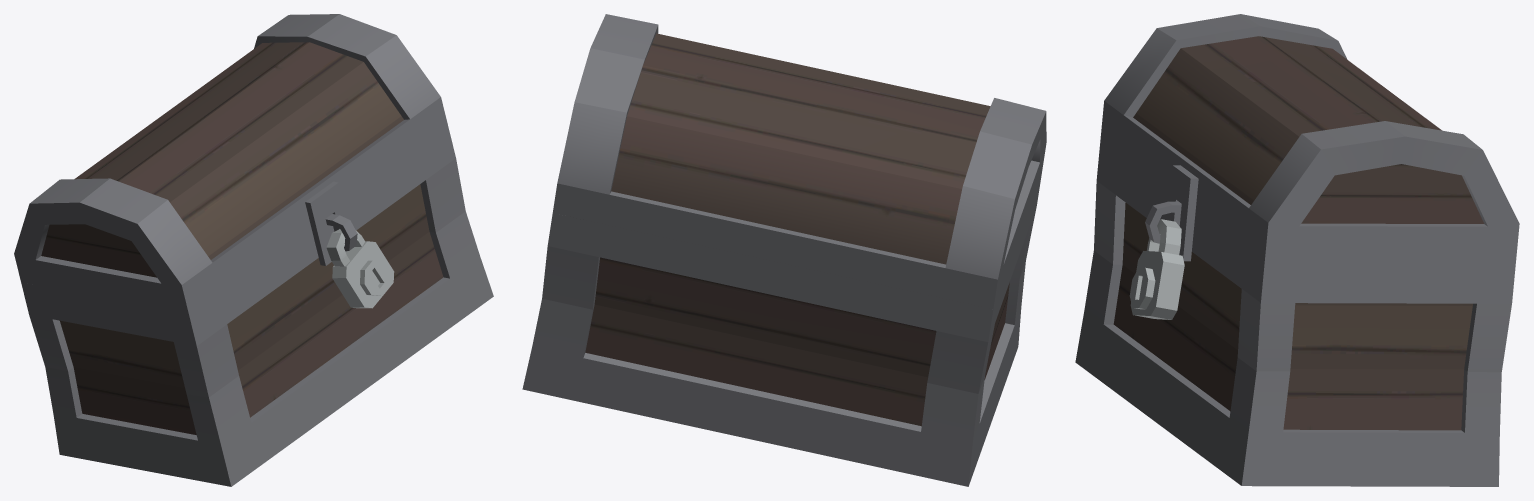
File: floatingChest.fbx
3 renders of one model, left to right at view 1: azimuth 30°, elevation 25°; view 2: azimuth 150°, elevation 25°; view 3: azimuth 270°, elevation 25°, orthographic. The views are drawn at different scales.
Parts seen in each view (by area): view 1: floatingChest; view 2: floatingChest; view 3: floatingChest.
Boxes of the visible parts, x1,y1,x2,y2 form: floatingChest: (14,14,493,486); floatingChest: (522,14,1046,486); floatingChest: (1075,14,1519,486).
Bounding box in the file's own units: 2.15 × 1.63 × 1.61.
